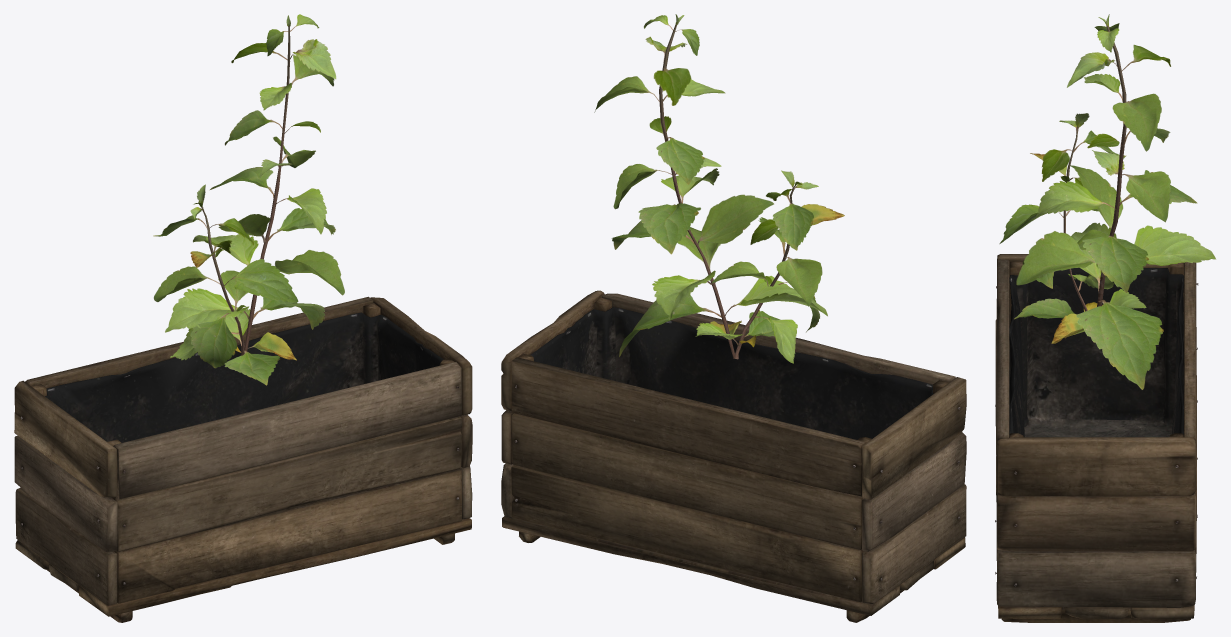
File: planter.glb
3 renders of one model, left to right at view 1: azimuth 30°, elevation 25°; view 2: azimuth 150°, elevation 25°; view 3: azimuth 270°, elevation 25°, orthographic. The views are drawn at different scales.
Visible parts, largest first — view 1: planter_box_01, shrub_01_a_LOD0; view 2: planter_box_01, shrub_01_a_LOD0; view 3: planter_box_01, shrub_01_a_LOD0.
Part boxes in pixels (box(x1,y1,x2,y2)): planter_box_01: box(14, 296, 472, 622); shrub_01_a_LOD0: box(153, 14, 344, 385); planter_box_01: box(501, 290, 966, 622); shrub_01_a_LOD0: box(594, 14, 844, 363); planter_box_01: box(995, 254, 1198, 622); shrub_01_a_LOD0: box(999, 14, 1215, 389).
Bounding box in the file's own units: 1.2 × 1.62 × 0.5927.
Materials: 2 (2 with a texture image).
